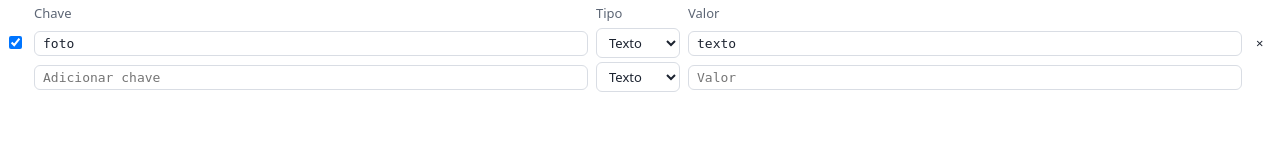
it: KeyValueTable com campos de arquivo › trocar para arquivo limpa o valor e escolhe o arquivo pelo diálogo
Select "Arquivo" in the dropdown with test id "kv-type": (638, 43) [596, 28, 680, 58]
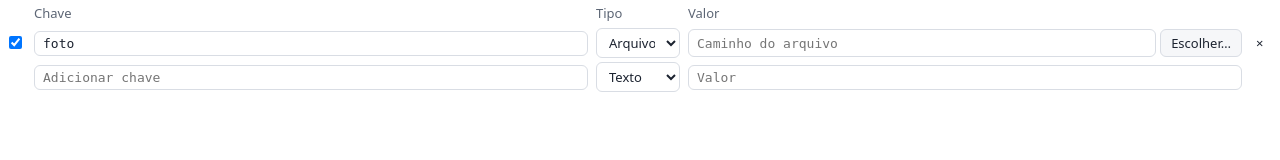
Click the button with test id "kv-pick-file": (1201, 43) [1160, 29, 1242, 57]
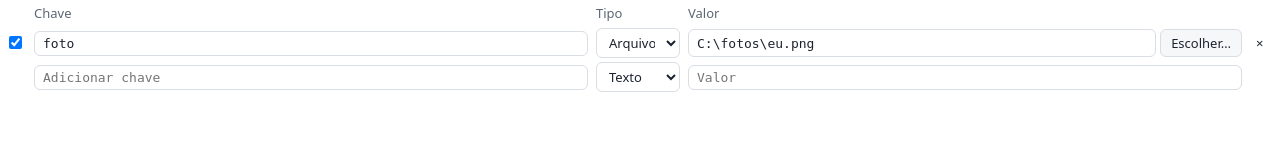
expect the field named "Arquivo 1" holds "C:\\fotos\\eu.png": met, box [688, 29, 1156, 57]
